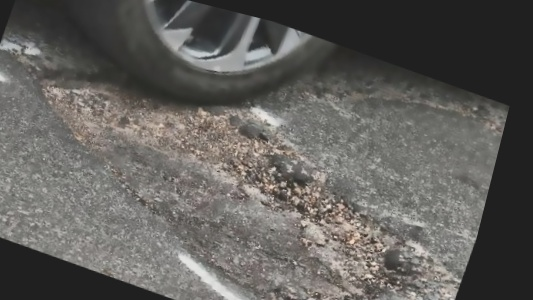pothole: (0, 35, 441, 300)
